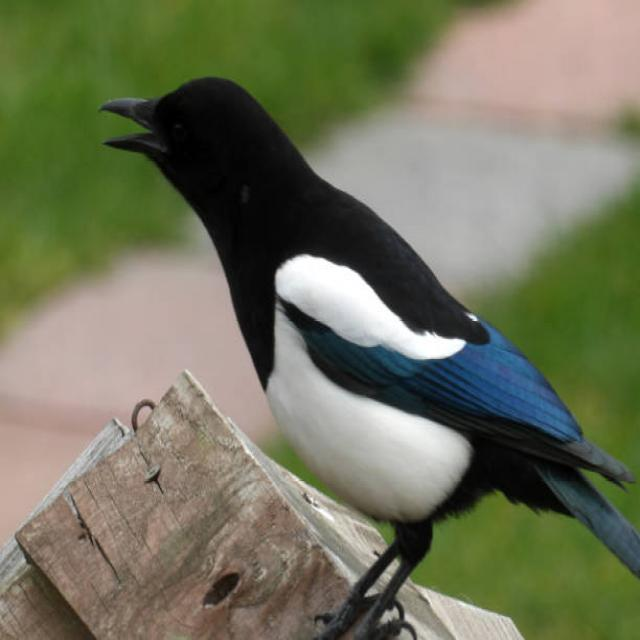Magpie: (92, 71, 640, 640)
